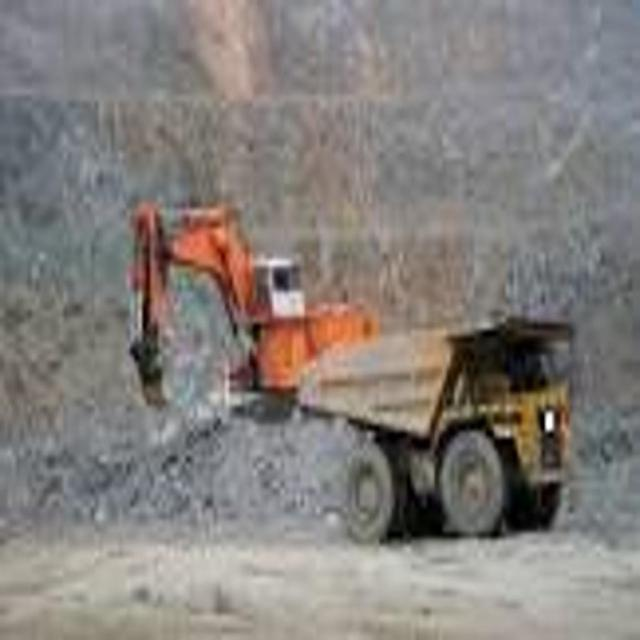dump_truck: (293, 310, 579, 543)
